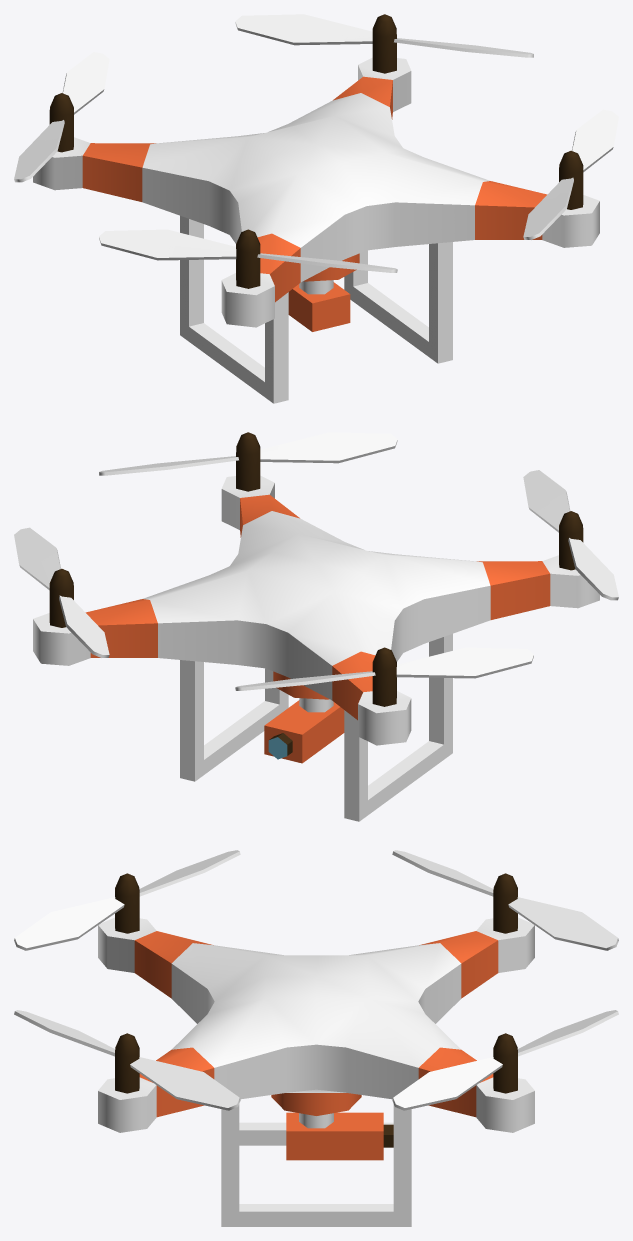
The model's file is drone.fbx.
3 views of the same model, one above another, from view 1: azimuth 30°, elevation 25°; view 2: azimuth 150°, elevation 25°; view 3: azimuth 270°, elevation 25° (orthographic).
Visible parts, largest first — view 1: drone, fane_4, fan_2, fane_3, fan_1; view 2: drone, fan_1, fane_3, fan_2, fane_4; view 3: drone, fan_2, fane_3, fane_4, fan_1.
Part boxes in pixels (bbox=[...]): drone: bbox=[33, 57, 599, 403]; fane_4: bbox=[99, 229, 397, 288]; fan_2: bbox=[235, 14, 533, 73]; fane_3: bbox=[523, 109, 618, 239]; fan_1: bbox=[14, 52, 109, 182]; drone: bbox=[33, 475, 599, 821]; fan_1: bbox=[235, 647, 533, 706]; fane_3: bbox=[99, 432, 397, 491]; fan_2: bbox=[14, 527, 109, 657]; fane_4: bbox=[523, 470, 618, 600]; drone: bbox=[98, 917, 534, 1226]; fan_2: bbox=[392, 1010, 618, 1110]; fane_3: bbox=[14, 1010, 240, 1110]; fane_4: bbox=[14, 850, 240, 950]; fan_1: bbox=[392, 850, 618, 950].
Bounding box in the file's own units: 72.89 × 30.39 × 72.69.
Materials: 1 (1 with a texture image).
